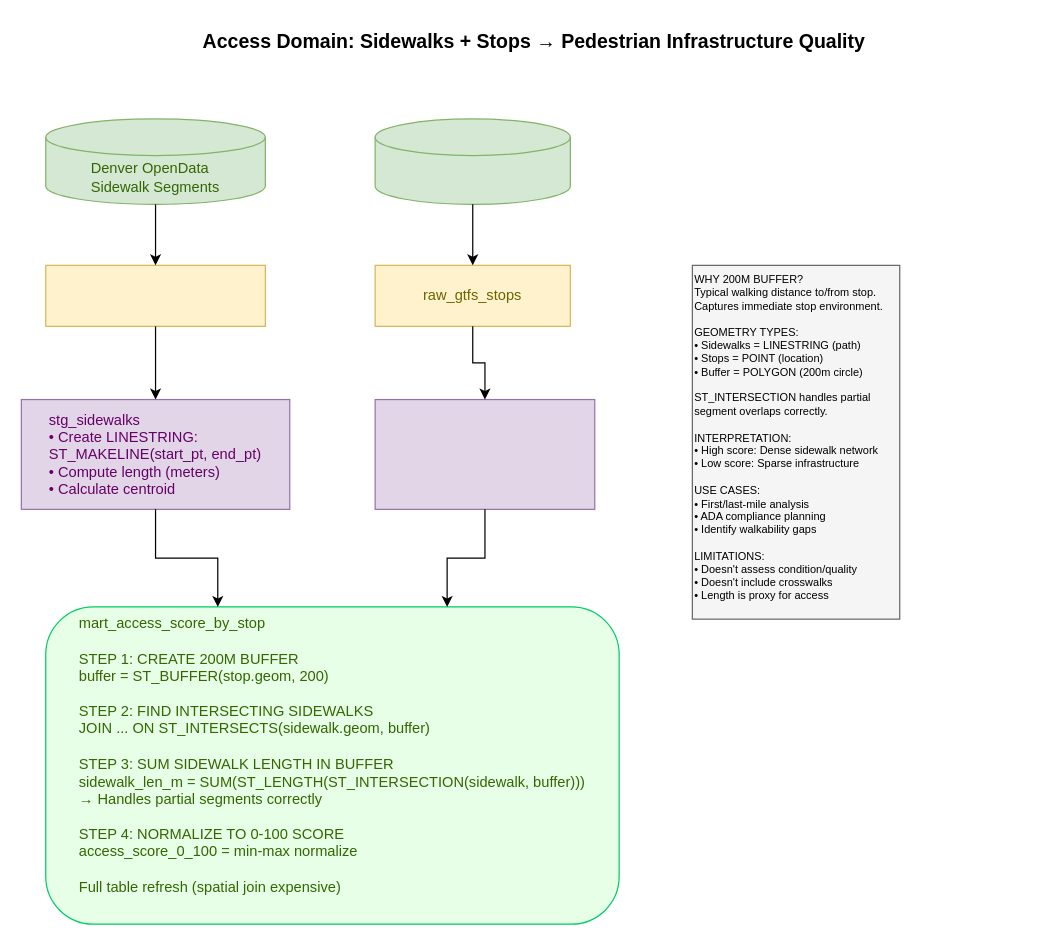
The diagram is 1043 pixels wide and 946 high, and some of its shapes have lost their labels. The shapes that lost their labels are listed below. From the top down, each one's centre as x and y in pixels, then its label:
the point at 472,161: RTD GTFS Stops
the point at 155,295: raw_sidewalks ~35K segments
the point at 484,453: stg_gtfs_stops • ST_GEOGPOINT(lon,lat)
